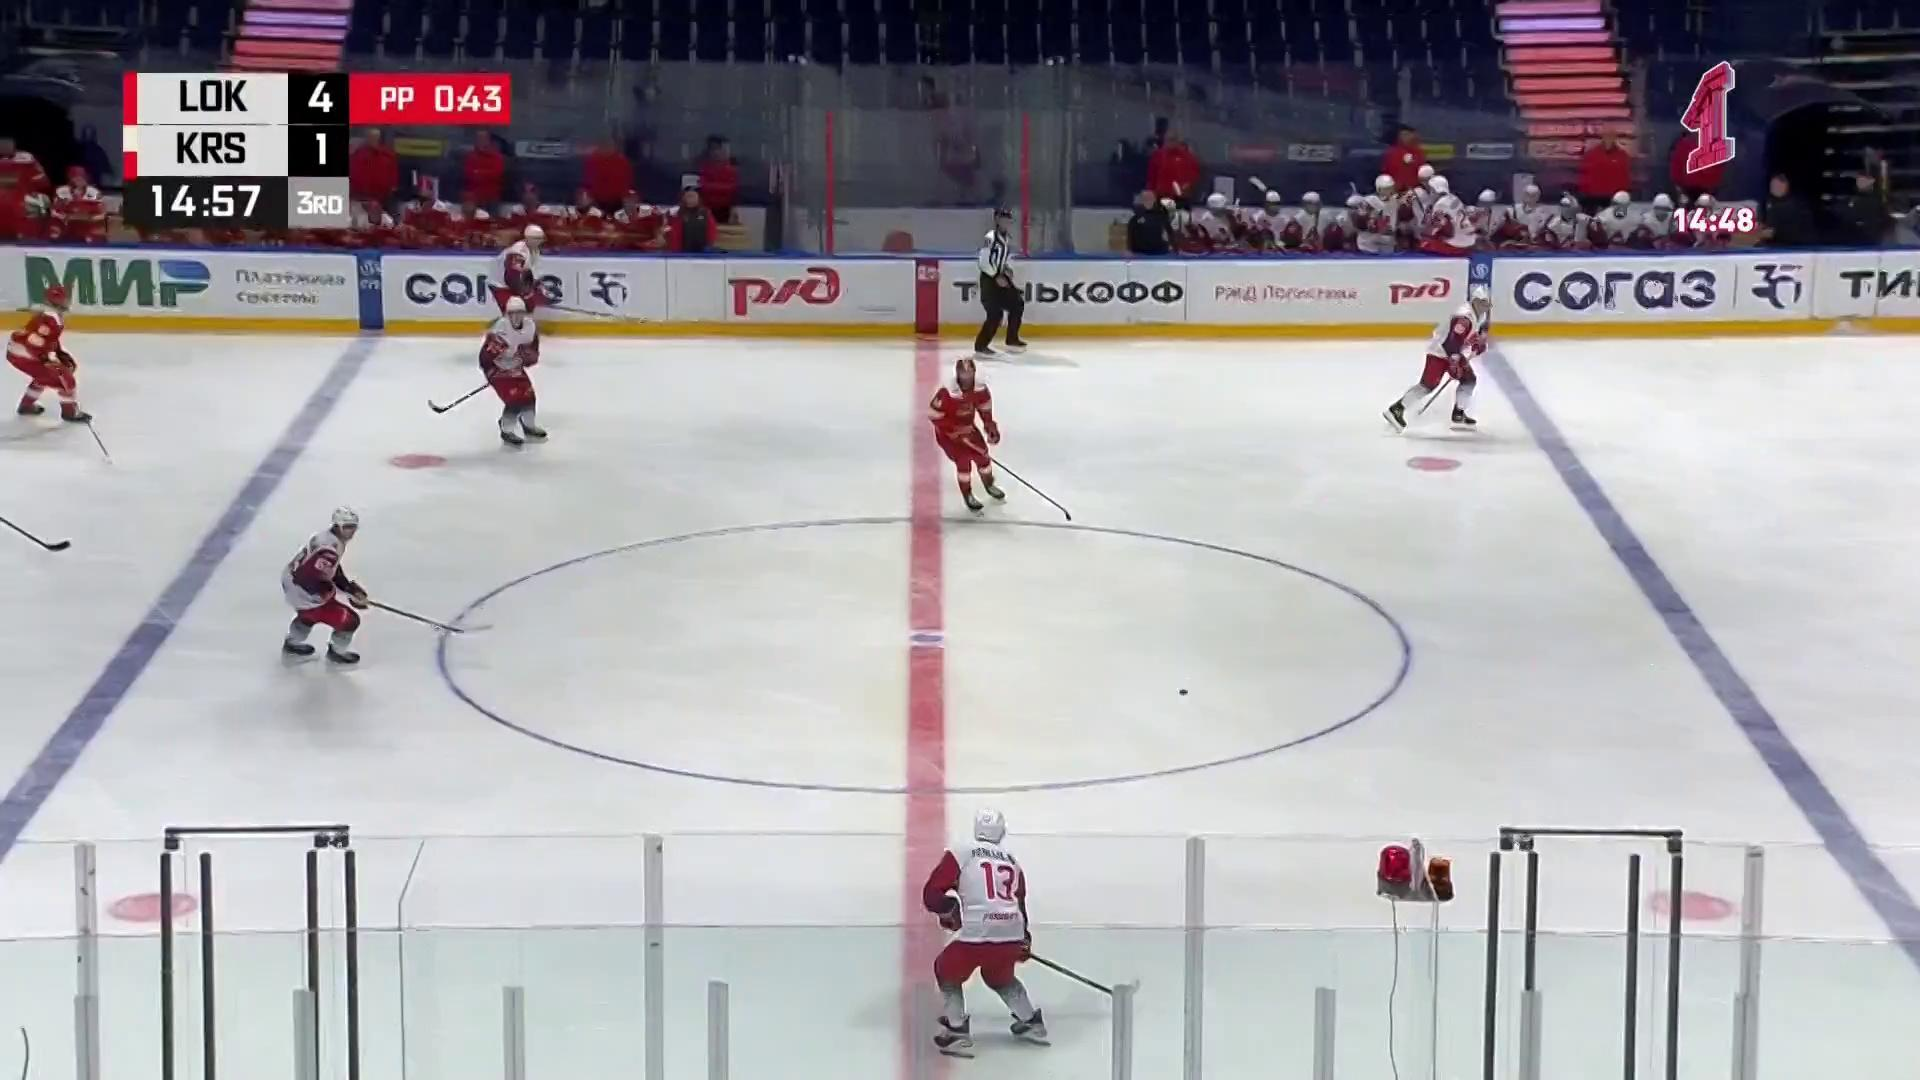ball: (1178, 688, 1189, 696)
